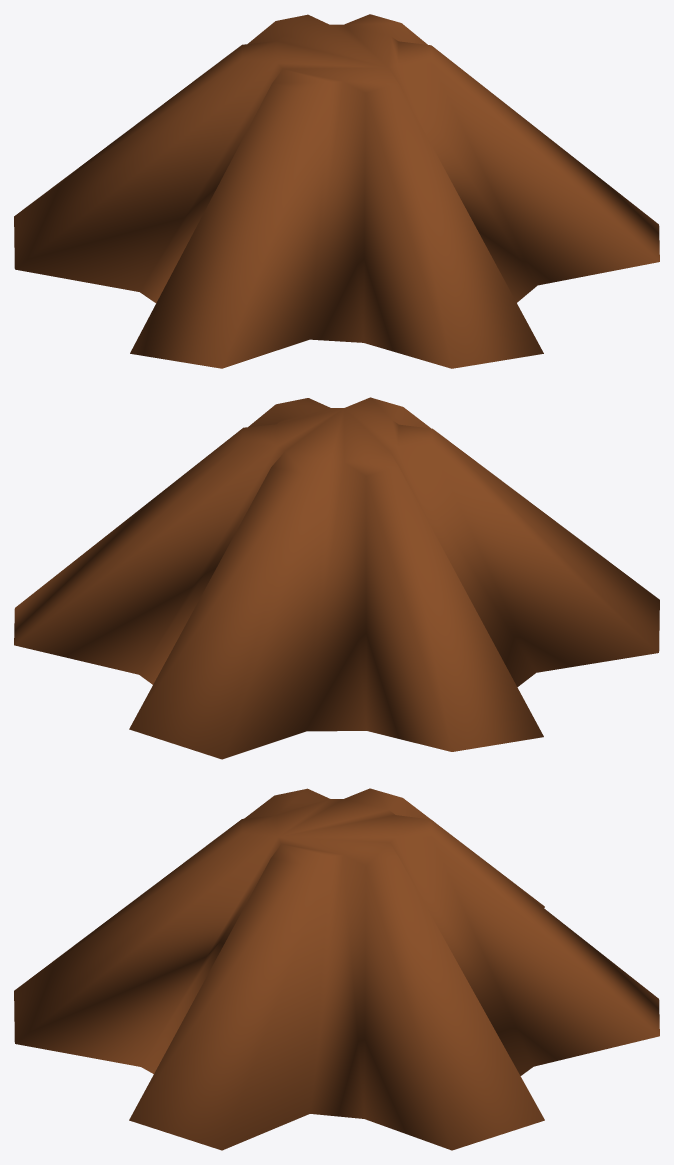
Rendered from INST_SWORDLIGHT_GEARPICKUP.obj.
3 renders of one model, top to bottom at view 1: azimuth 30°, elevation 25°; view 2: azimuth 150°, elevation 25°; view 3: azimuth 270°, elevation 25°, orthographic.
Parts seen in each view (by area): view 1: rPickup_Lod1_01; view 2: rPickup_Lod1_01; view 3: rPickup_Lod1_01.
Boxes of the visible parts, x1,y1,x2,y2 form: rPickup_Lod1_01: (14, 14, 659, 368); rPickup_Lod1_01: (14, 397, 659, 759); rPickup_Lod1_01: (14, 788, 659, 1150).
Bounding box in the file's own units: 76.85 × 28.86 × 81.22.
